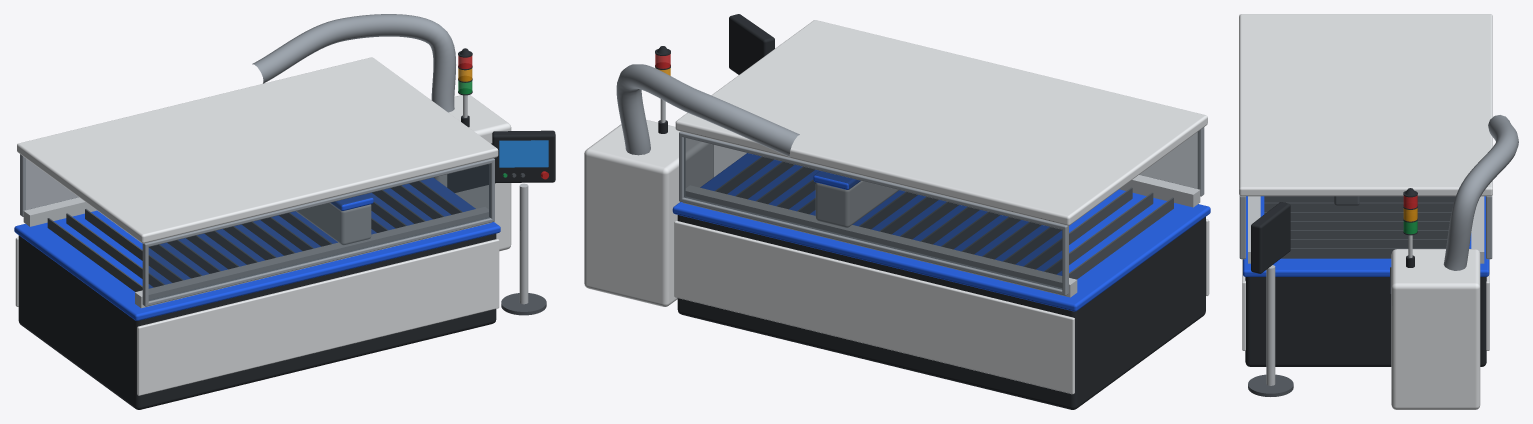
File: laser-cutter.glb
3 renders of one model, left to right at view 1: azimuth 30°, elevation 25°; view 2: azimuth 150°, elevation 25°; view 3: azimuth 270°, elevation 25°, orthographic. The views are drawn at different scales.
Visible parts, largest first — view 1: laser_cutter_paint_white, laser_cutter_graphite, laser_cutter_glass_tint, laser_cutter_accent_blue, laser_cutter_paint_grey, laser_cutter_dark_steel, laser_cutter_steel, laser_cutter_screen; view 2: laser_cutter_paint_white, laser_cutter_glass_tint, laser_cutter_graphite, laser_cutter_accent_blue, laser_cutter_paint_grey, laser_cutter_dark_steel, laser_cutter_steel; view 3: laser_cutter_paint_white, laser_cutter_graphite, laser_cutter_dark_steel, laser_cutter_paint_grey, laser_cutter_accent_blue, laser_cutter_steel.
Boxes of the visible parts, <box> form: laser_cutter_paint_white: <box>15,57,511,395</box>; laser_cutter_graphite: <box>18,48,555,409</box>; laser_cutter_glass_tint: <box>26,158,490,300</box>; laser_cutter_accent_blue: <box>14,178,500,320</box>; laser_cutter_paint_grey: <box>20,14,494,306</box>; laser_cutter_dark_steel: <box>47,173,546,315</box>; laser_cutter_steel: <box>23,95,528,308</box>; laser_cutter_screen: <box>499,140,548,167</box>; laser_cutter_paint_white: <box>584,20,1209,394</box>; laser_cutter_glass_tint: <box>684,132,1197,289</box>; laser_cutter_graphite: <box>655,14,1205,409</box>; laser_cutter_accent_blue: <box>672,153,1210,311</box>; laser_cutter_paint_grey: <box>616,64,1204,295</box>; laser_cutter_dark_steel: <box>715,156,1173,279</box>; laser_cutter_steel: <box>660,99,1200,297</box>; laser_cutter_paint_white: <box>1239,14,1492,409</box>; laser_cutter_graphite: <box>1245,188,1486,366</box>; laser_cutter_dark_steel: <box>1248,196,1455,396</box>; laser_cutter_paint_grey: <box>1239,115,1518,270</box>; laser_cutter_accent_blue: <box>1243,196,1489,276</box>; laser_cutter_steel: <box>1248,196,1484,385</box>.
Size of the model in its own units: 4.12 by 1.9 by 2.2.
